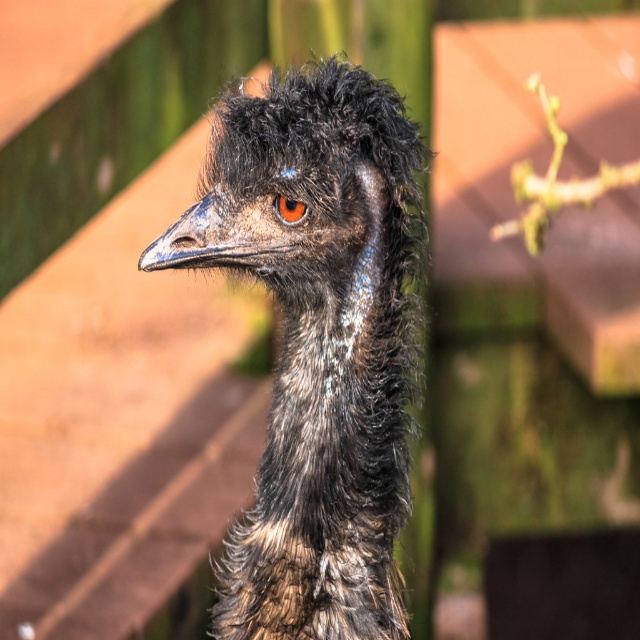Ostrich: (133, 50, 414, 639)
